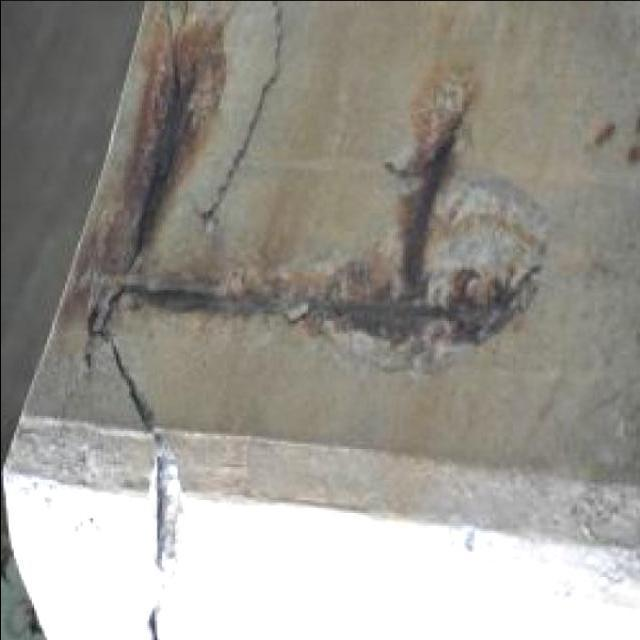Crack: (198, 1, 285, 232)
